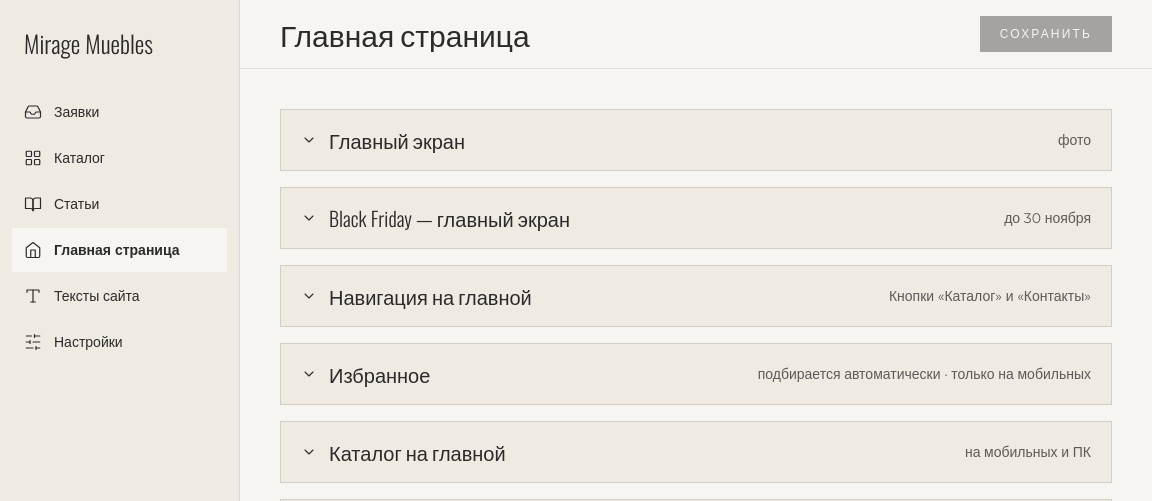
Test: home navigation in the admin › saves catalog and contact scroll switches independently
Later steps or results of the test are not shown.
Click the button "Навигация на главной Кнопки «Каталог» и «Контакты»".
click(430, 296)  # box [281,266,1111,326]
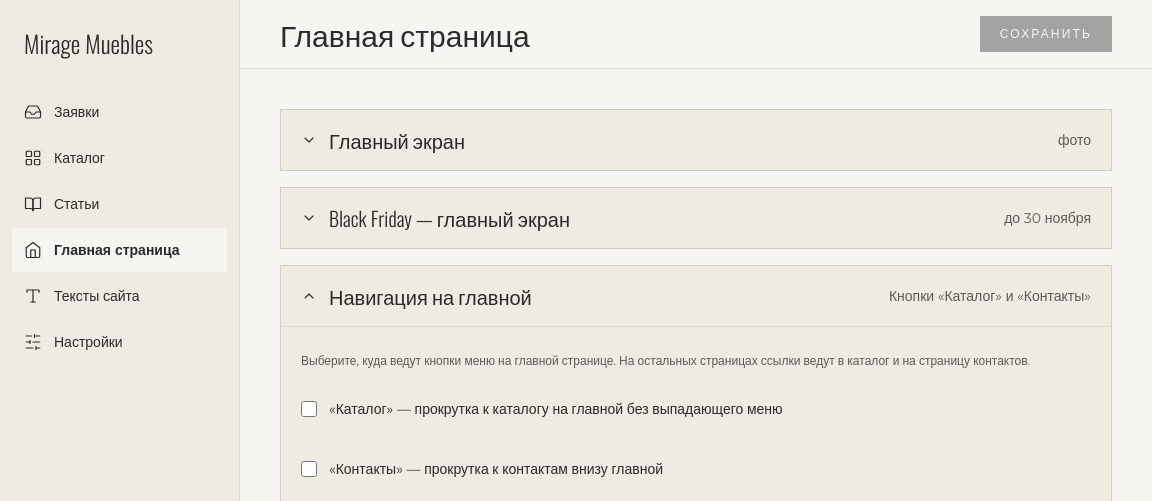
Check: the checkbox labelled "«Каталог» — прокрутка" is not checked, box [301,400,317,416]
Check: the checkbox labelled "«Контакты» — прокрутка к контактам внизу главной" is not checked, box [301,460,317,476]
